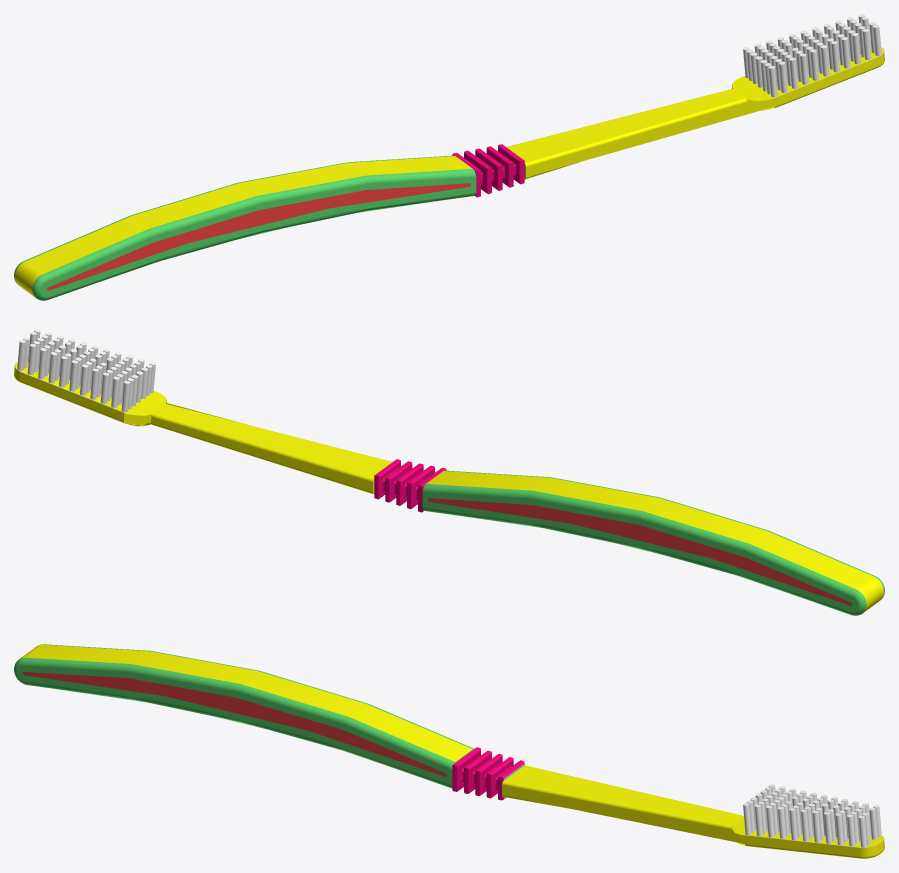
The picture shows the model from 3 angles, top to bottom: view 1: azimuth 30°, elevation 25°; view 2: azimuth 150°, elevation 25°; view 3: azimuth 330°, elevation 25°; orthographic projection.
Parts seen in each view (by area): view 1: Brush-5.004, Brush.004, Brush-6.004, Brush-1.004, Brush-8.004, Brush-3.004; view 2: Brush-5.004, Brush.004, Brush-6.004, Brush-1.004, Brush-8.004, Brush-3.004; view 3: Brush-5.004, Brush.004, Brush-6.004, Brush-1.004, Brush-8.004, Brush-3.004.
Part boxes in pixels (box(x1,y1,x2,y2)): Brush-5.004: box(14, 155, 476, 300); Brush.004: box(506, 43, 884, 179); Brush-6.004: box(15, 156, 472, 297); Brush-1.004: box(743, 14, 881, 96); Brush-8.004: box(46, 183, 470, 290); Brush-3.004: box(452, 144, 524, 197); Brush-5.004: box(422, 470, 884, 615); Brush.004: box(14, 358, 392, 494); Brush-6.004: box(426, 471, 883, 612); Brush-1.004: box(17, 329, 155, 411); Brush-8.004: box(428, 498, 852, 605); Brush-3.004: box(374, 459, 446, 512); Brush-5.004: box(14, 644, 473, 788); Brush.004: box(502, 765, 884, 858); Brush-6.004: box(20, 644, 472, 761); Brush-1.004: box(743, 784, 881, 847); Brush-8.004: box(22, 672, 446, 776); Brush-3.004: box(452, 747, 524, 800).
Bounding box in the file's own units: 1.06 × 0.0827 × 0.0646.
